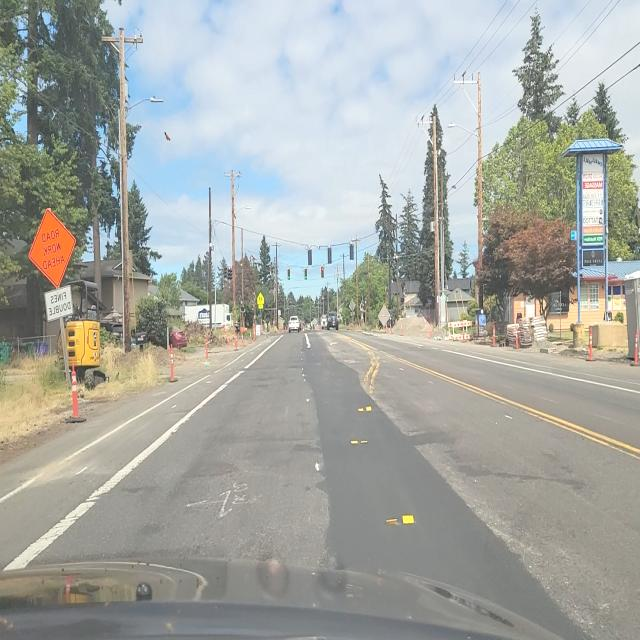car: (327, 311, 339, 331), (288, 316, 301, 334)
crosswalk-sign: (257, 292, 264, 310)
delineator: (66, 364, 85, 423), (169, 345, 177, 382), (633, 328, 639, 364), (588, 327, 593, 360), (204, 340, 210, 364), (515, 323, 519, 349), (492, 324, 496, 346), (234, 329, 238, 350), (241, 326, 245, 346), (399, 322, 404, 336), (226, 331, 230, 347), (248, 326, 252, 341), (390, 322, 393, 334), (430, 323, 432, 338), (280, 326, 284, 333)
